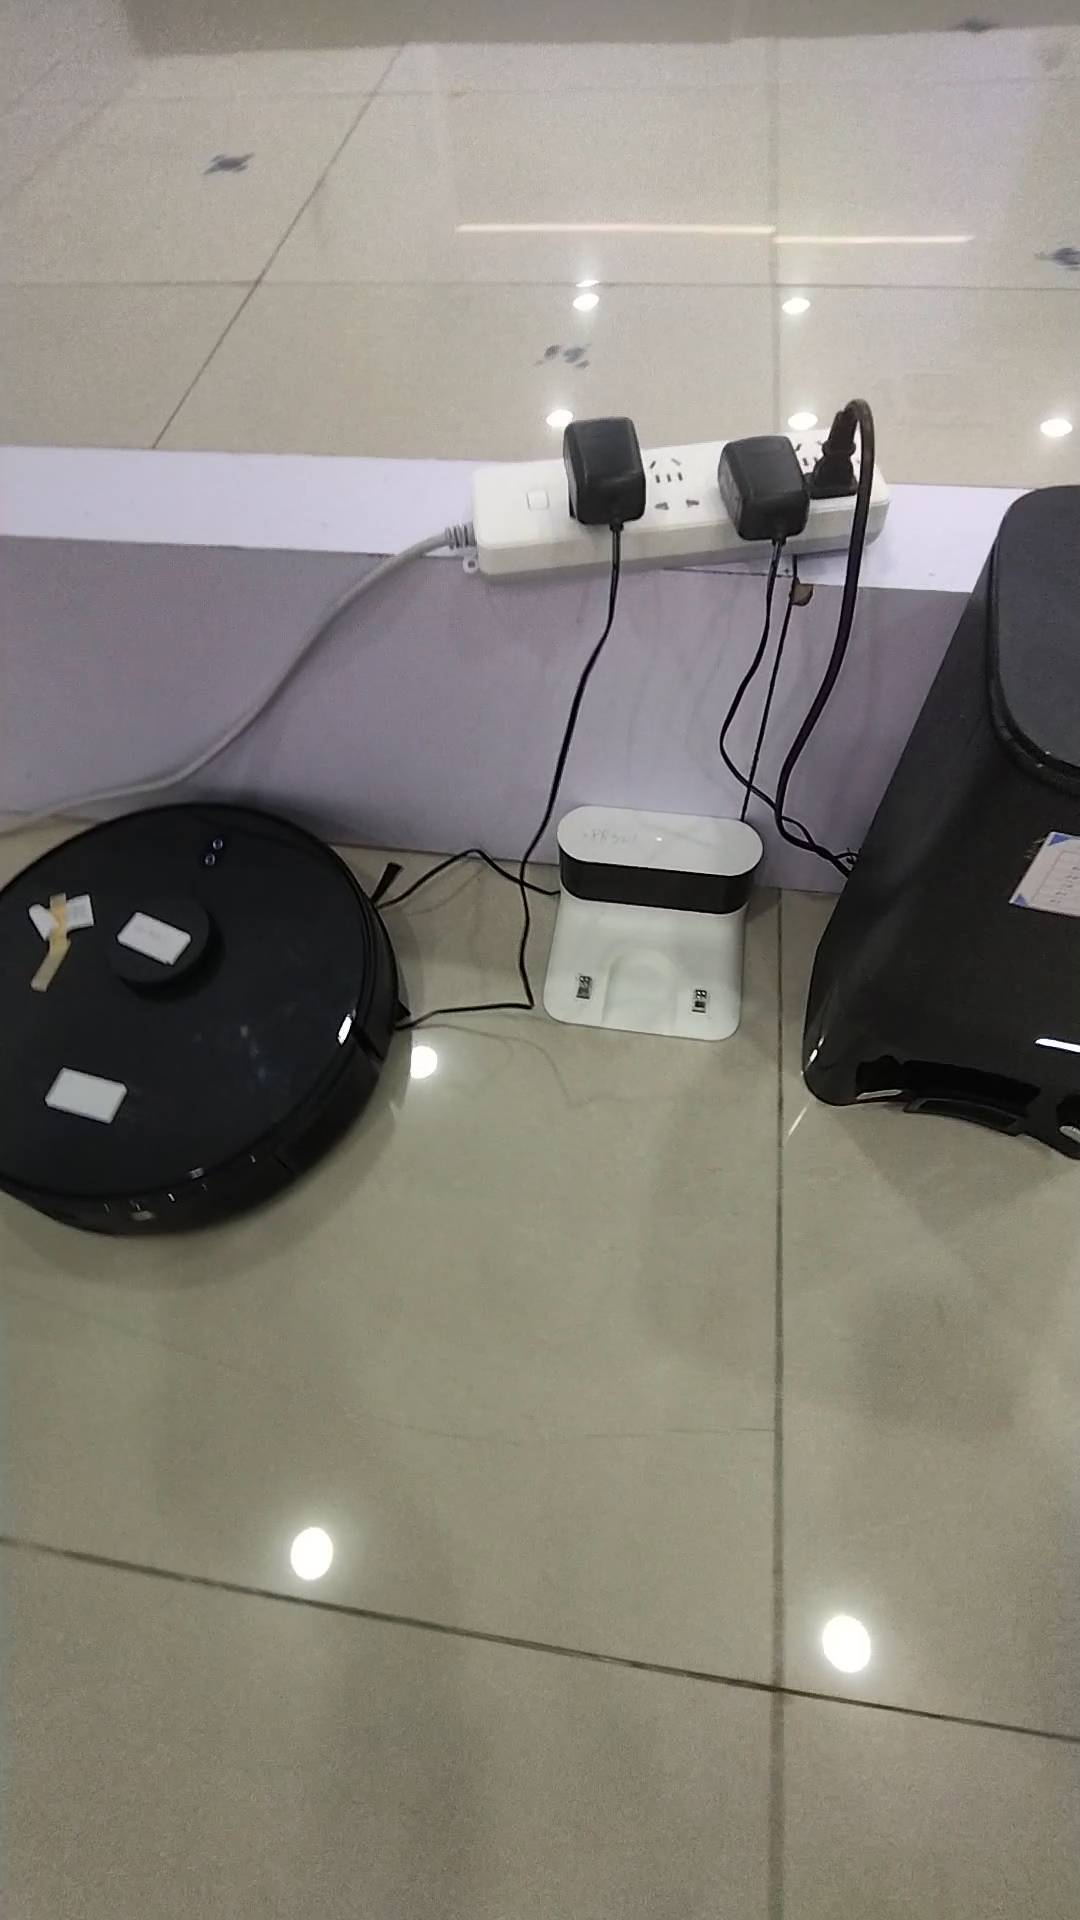dust collecting barrel: (804, 484, 1080, 1164)
recharge seat: (542, 804, 766, 1039)
